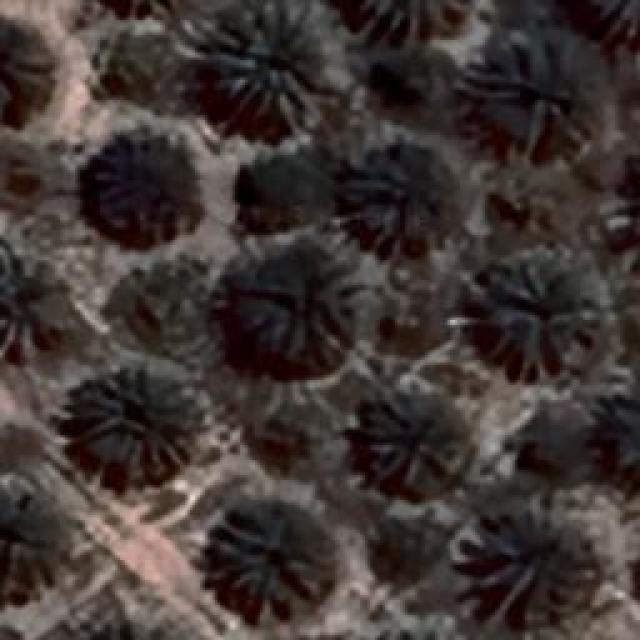PalmTree: (129, 24, 292, 426), (211, 235, 364, 380), (455, 21, 600, 161), (330, 132, 462, 258), (478, 247, 600, 375), (77, 129, 205, 249), (215, 5, 325, 130), (104, 251, 224, 361), (78, 368, 200, 470), (472, 510, 598, 608), (230, 140, 345, 238), (350, 35, 470, 125), (212, 522, 328, 610), (365, 385, 465, 485), (0, 476, 65, 606), (113, 103, 129, 628), (0, 242, 72, 357), (581, 378, 639, 498), (1, 12, 59, 132), (534, 0, 636, 60), (587, 155, 640, 255), (362, 0, 467, 32), (345, 617, 479, 640), (72, 622, 204, 640), (80, 0, 184, 19), (84, 0, 188, 12)
